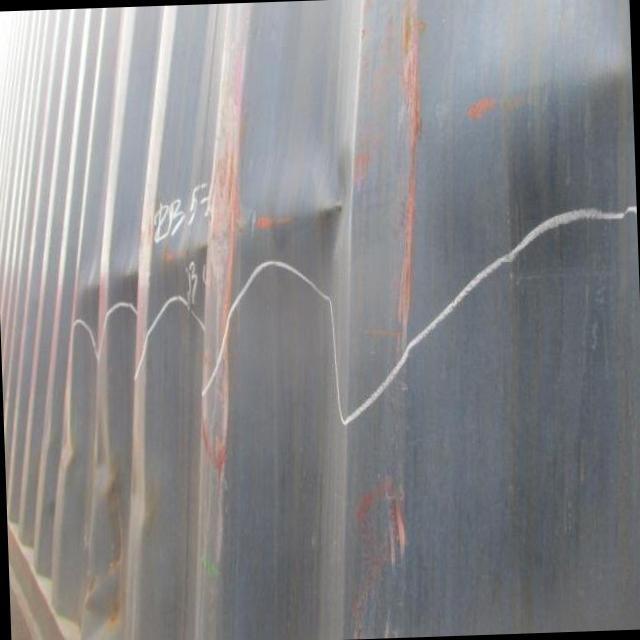Deframe_or_Dent: (59, 121, 364, 377), (400, 0, 638, 272), (25, 397, 188, 640)
